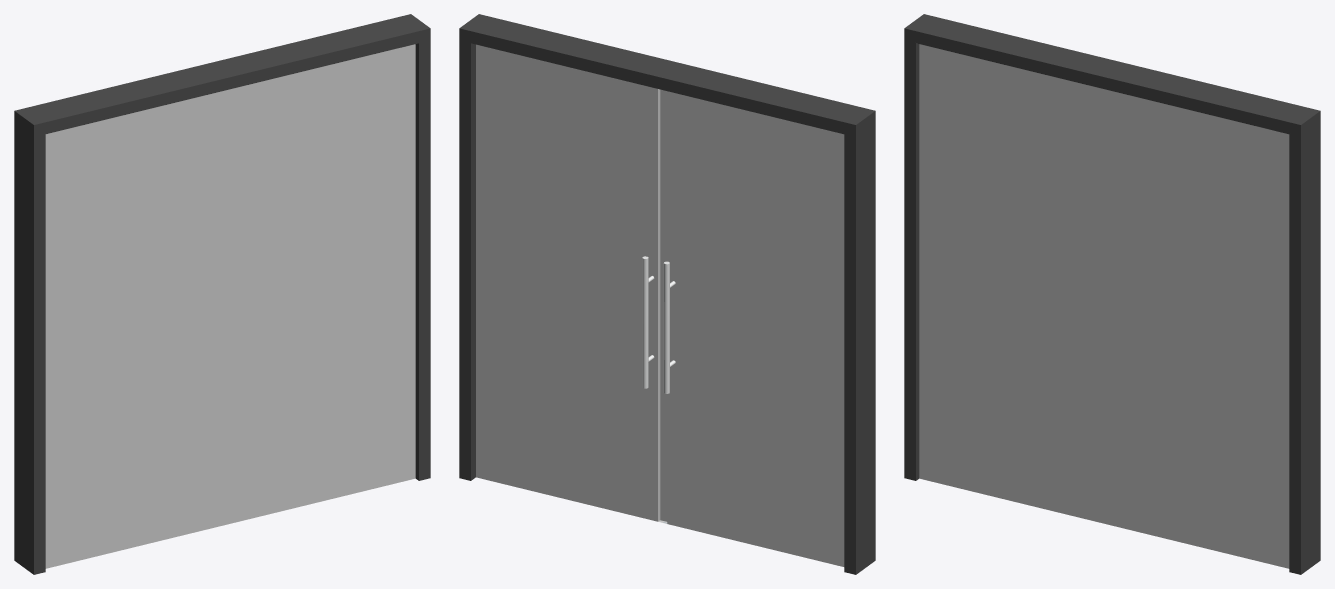
File: door.fbx
3 views of the same model, side by side, from view 1: azimuth 30°, elevation 25°; view 2: azimuth 150°, elevation 25°; view 3: azimuth 330°, elevation 25° (orthographic).
Parts seen in each view (by area): view 1: Cube, Door; view 2: Cube, Door; view 3: Cube, Door.
Boxes of the visible parts, bbox=[...] form: Cube: bbox=[45, 44, 415, 568]; Door: bbox=[14, 14, 430, 574]; Cube: bbox=[476, 44, 844, 566]; Door: bbox=[459, 14, 875, 574]; Cube: bbox=[919, 44, 1289, 568]; Door: bbox=[904, 14, 1320, 574].
Bounding box in the file's own units: 196 × 212 × 19.84.
